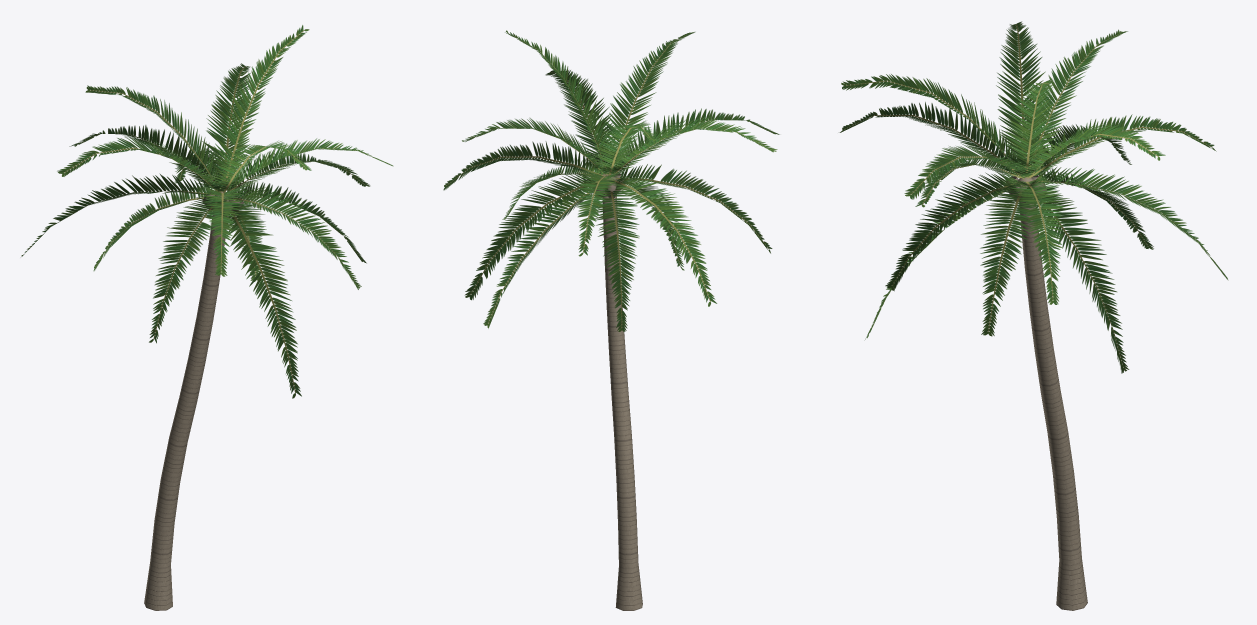
Rendered from veg_palm_coconut_a.glb.
3 renders of one model, left to right at view 1: azimuth 30°, elevation 25°; view 2: azimuth 150°, elevation 25°; view 3: azimuth 270°, elevation 25°, orthographic. The views are drawn at different scales.
Parts seen in each view (by area): view 1: Leaves, Trunk; view 2: Leaves, Trunk; view 3: Leaves, Trunk.
Part boxes in pixels (bbox=[...]): Leaves: bbox=[21, 25, 393, 398]; Trunk: bbox=[144, 189, 243, 610]; Leaves: bbox=[443, 30, 779, 331]; Trunk: bbox=[593, 173, 642, 610]; Leaves: bbox=[839, 21, 1228, 373]; Trunk: bbox=[1004, 175, 1087, 610].
Bounding box in the file's own units: 31.71 × 50.65 × 32.24.
2 materials, 2 textured.
